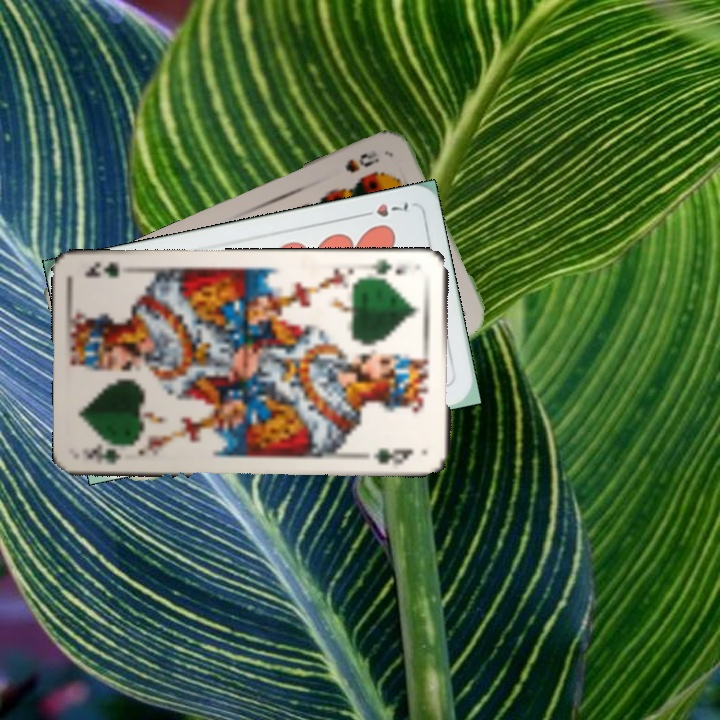GK: (367, 256, 411, 282), (83, 443, 124, 468)
H7: (355, 198, 411, 221)
S8: (341, 146, 382, 176)
